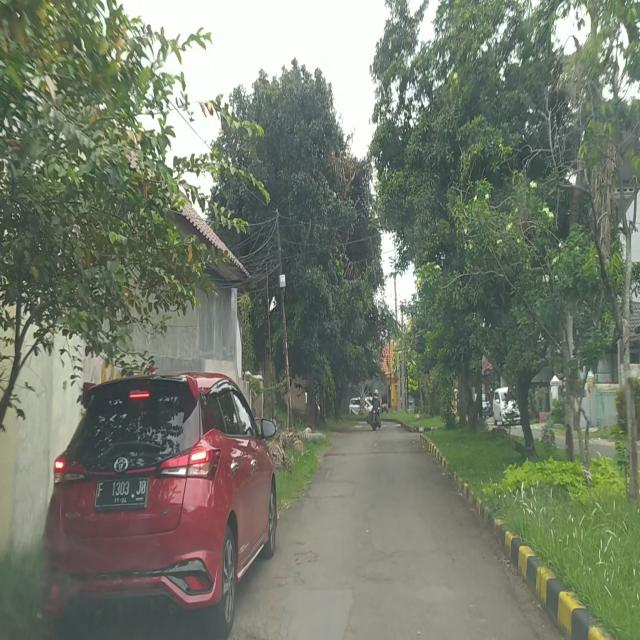Drain Hole: (227, 599, 297, 640)
